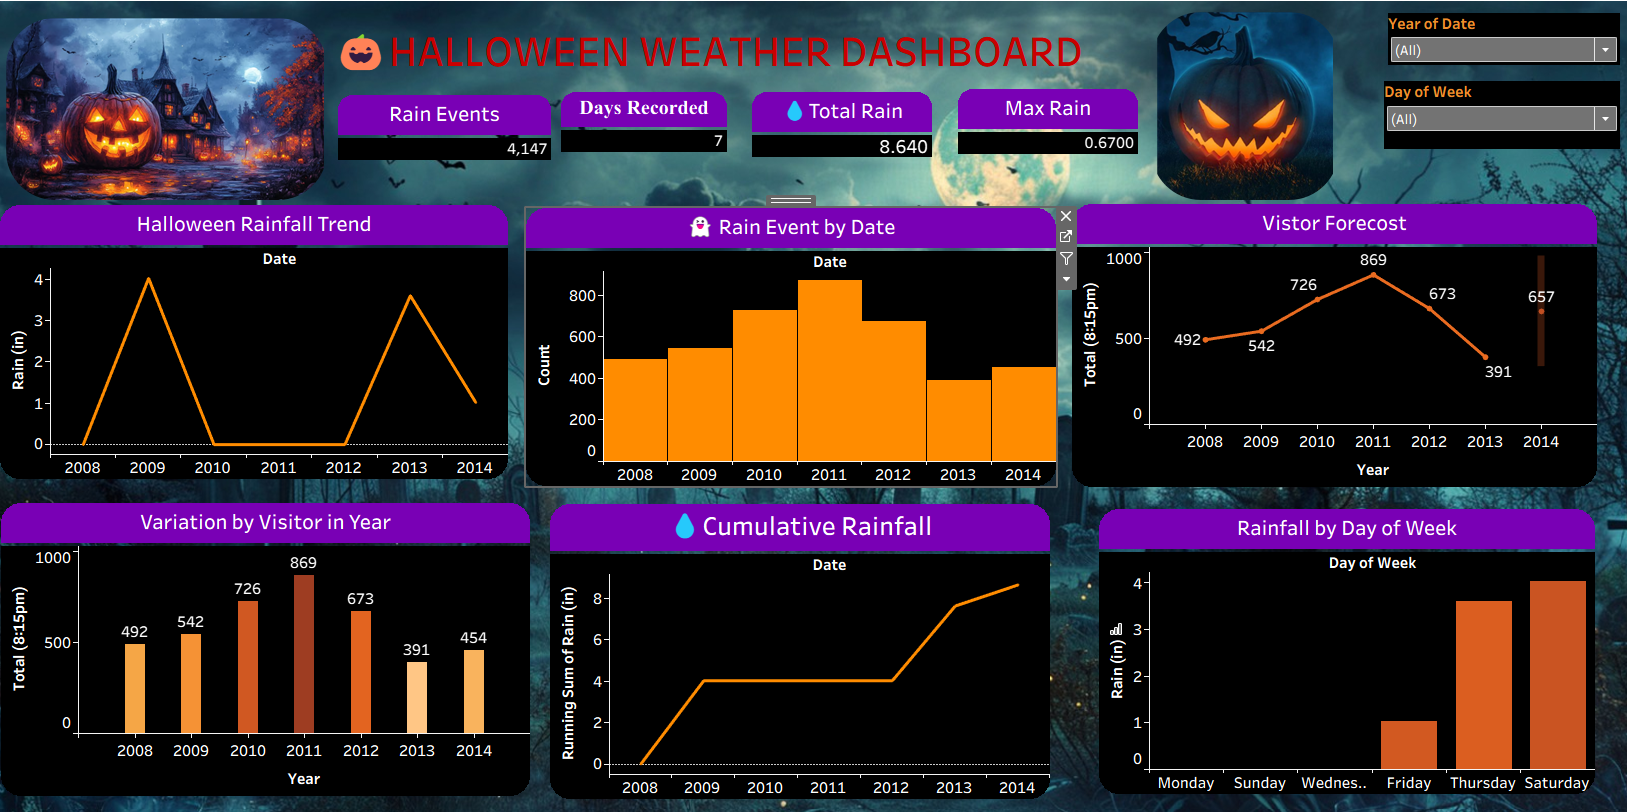

This screenshot's page, from the dashboard's own definition file:
{"tool":"tableau","page":{"name":"Dashboard 2","canvas":[1000,1000],"units":"permille","ordinal":0},"visuals":[{"type":"image","param":"Image/WhatsApp Image 2026-08-29 at 10.04.47 AM.jpeg","box":[4.8,9.4,990.3,981.2]},{"type":"text","box":[201,14.1,469.5,125.7]},{"type":"image","param":"Image/Screenshot 2026-08-30 221707.png","box":[703.1,32.9,113.5,220.9]},{"type":"filter","title":"Sheet 5","param":"[federated.17gthx304zt29a105z8g11yw2f1j].[yr:Date:ok]","box":[846.1,34.1,140,61.1]},{"type":"image","param":"Image/Screenshot 2026-08-30 221449.png","box":[12.1,40,193.7,213.9]},{"type":"filter","title":"Sheet 7","param":"[federated.17gthx304zt29a105z8g11yw2f1j].[none:Day of Week:nk]","box":[843.7,114,142.4,79.9]},{"type":"worksheet","title":"Sheet 10","mark":"Automatic","box":[586.6,123.4,108.6,116.3]},{"type":"worksheet","title":"Sheet 12","mark":"Text","box":[347,126.9,100.2,114]},{"type":"worksheet","title":"Sheet 8","mark":"Automatic","box":[462.3,126.9,108.6,117.5]},{"type":"worksheet","title":"Sheet 11","mark":"Automatic","box":[212.4,130.4,128.6,116.3]},{"type":"worksheet","title":"Sheet 2","mark":"Automatic","rows":["15pm)"],"cols":["Year"],"box":[655.4,258.5,316.8,332.6]},{"type":"worksheet","title":"Sheet 6","mark":"Automatic","rows":["Rain (in)"],"cols":["Date"],"box":[8.4,259.7,306.6,322]},{"type":"worksheet","title":"Sheet 5","mark":"Bar","rows":["Count"],"cols":["Date"],"box":[325.9,263.2,319.9,326.7]},{"type":"worksheet","title":"Sheet 3","mark":"Bar","rows":["15pm)"],"cols":["Year"],"box":[9.1,609.9,319.2,344.3]},{"type":"worksheet","title":"Sheet 9","mark":"Automatic","rows":["Rain (in)"],"cols":["Date"],"box":[340.4,611.1,301.8,346.7]},{"type":"worksheet","title":"Sheet 7","mark":"Automatic","rows":["Rain (in)"],"cols":["Day of Week"],"box":[671.7,616.9,299.3,334.9]}]}

Visuals, with their boxes on the dashboard's canvas, which has no fixed pixel size, in thousandths of its width and height (x1, y1, x2, y2). These are canvas units, not pixel positions in the 1627x812 screenshot, which may show the page scaled, cropped or inside an application window:
image: box=[5, 9, 995, 991]
text: box=[201, 14, 670, 140]
image: box=[703, 33, 817, 254]
"Sheet 5" filter: box=[846, 34, 986, 95]
image: box=[12, 40, 206, 254]
"Sheet 7" filter: box=[844, 114, 986, 194]
"Sheet 10" worksheet: box=[587, 123, 695, 240]
"Sheet 12" worksheet (Text marks): box=[347, 127, 447, 241]
"Sheet 8" worksheet: box=[462, 127, 571, 244]
"Sheet 11" worksheet: box=[212, 130, 341, 247]
"Sheet 2" worksheet: box=[655, 258, 972, 591]
"Sheet 6" worksheet: box=[8, 260, 315, 582]
"Sheet 5" worksheet (Bar marks): box=[326, 263, 646, 590]
"Sheet 3" worksheet (Bar marks): box=[9, 610, 328, 954]
"Sheet 9" worksheet: box=[340, 611, 642, 958]
"Sheet 7" worksheet: box=[672, 617, 971, 952]
